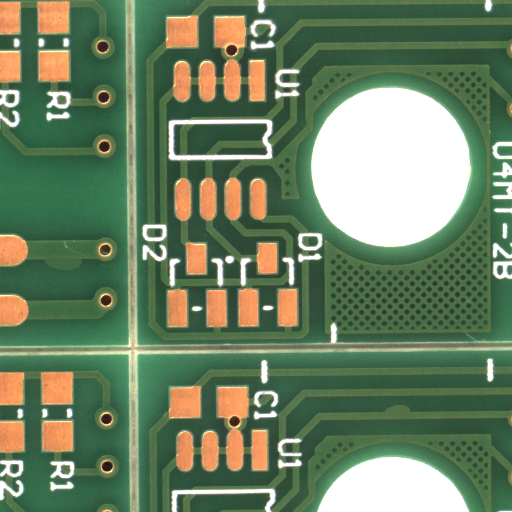Spur: (63, 264, 111, 282), (396, 409, 433, 423)
